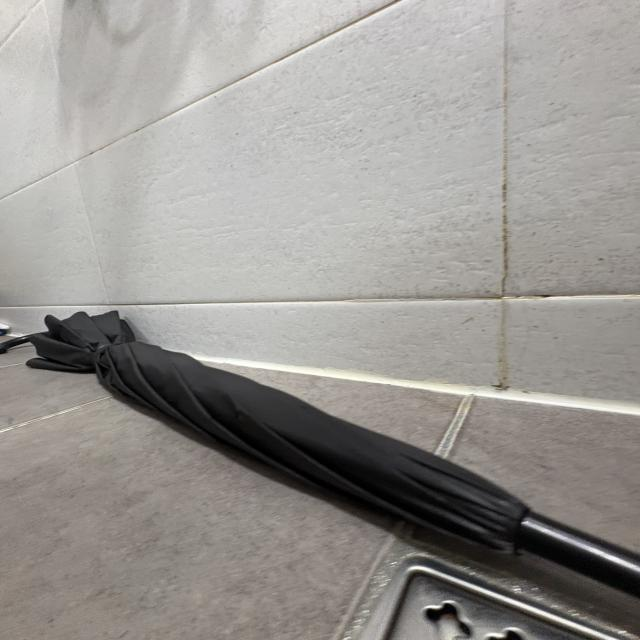umbrella: (0, 310, 640, 594)
